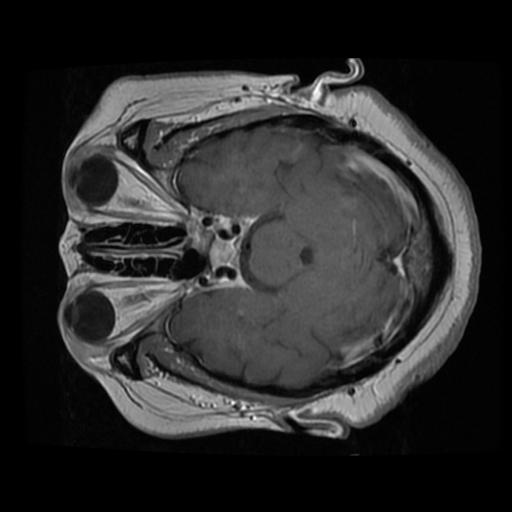pituitary tumour: (209, 240, 236, 267)
